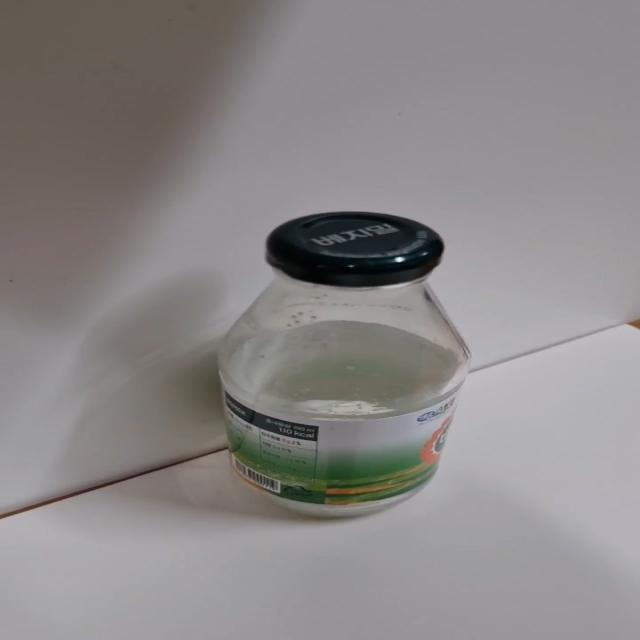Glass: (202, 203, 476, 518)
